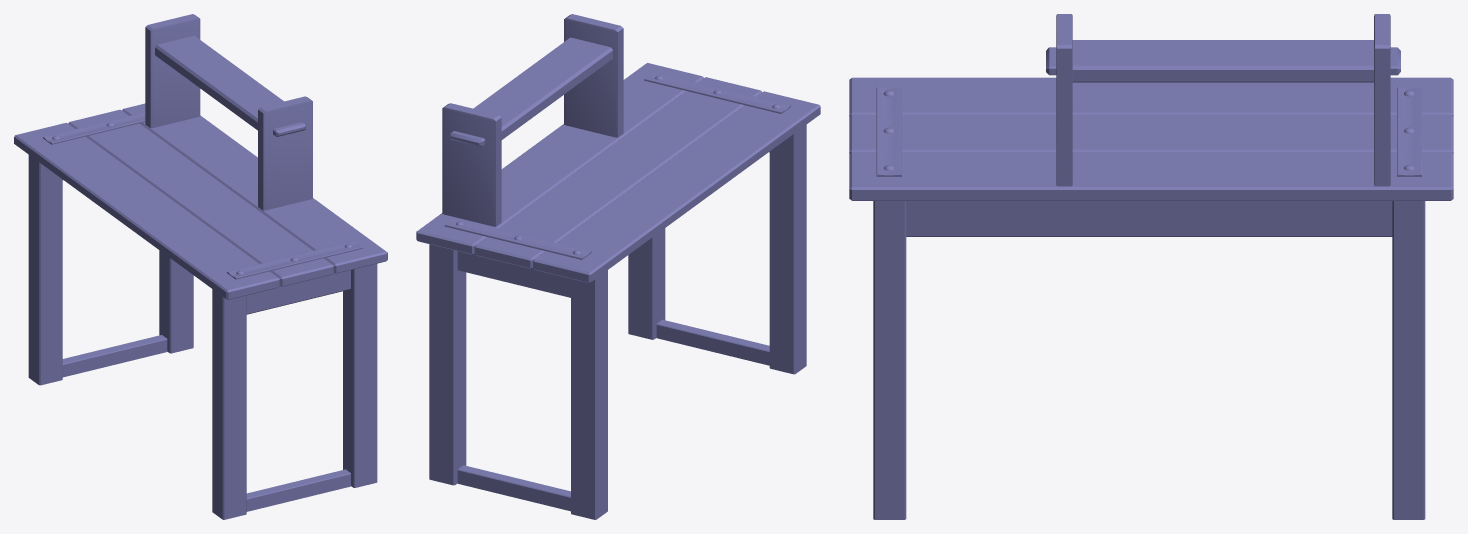
File: Desk.fbx
3 views of the same model, side by side, from view 1: azimuth 30°, elevation 25°; view 2: azimuth 150°, elevation 25°; view 3: azimuth 270°, elevation 25° (orthographic). The views are drawn at different scales.
Visible parts, largest first — view 1: Desk001; view 2: Desk001; view 3: Desk001.
Boxes of the visible parts, left/top/right/bottom form: Desk001: left=14, top=14, right=387, bottom=519; Desk001: left=416, top=14, right=820, bottom=519; Desk001: left=849, top=14, right=1453, bottom=519.
Bounding box in the file's own units: 56.07 × 111 × 128.
